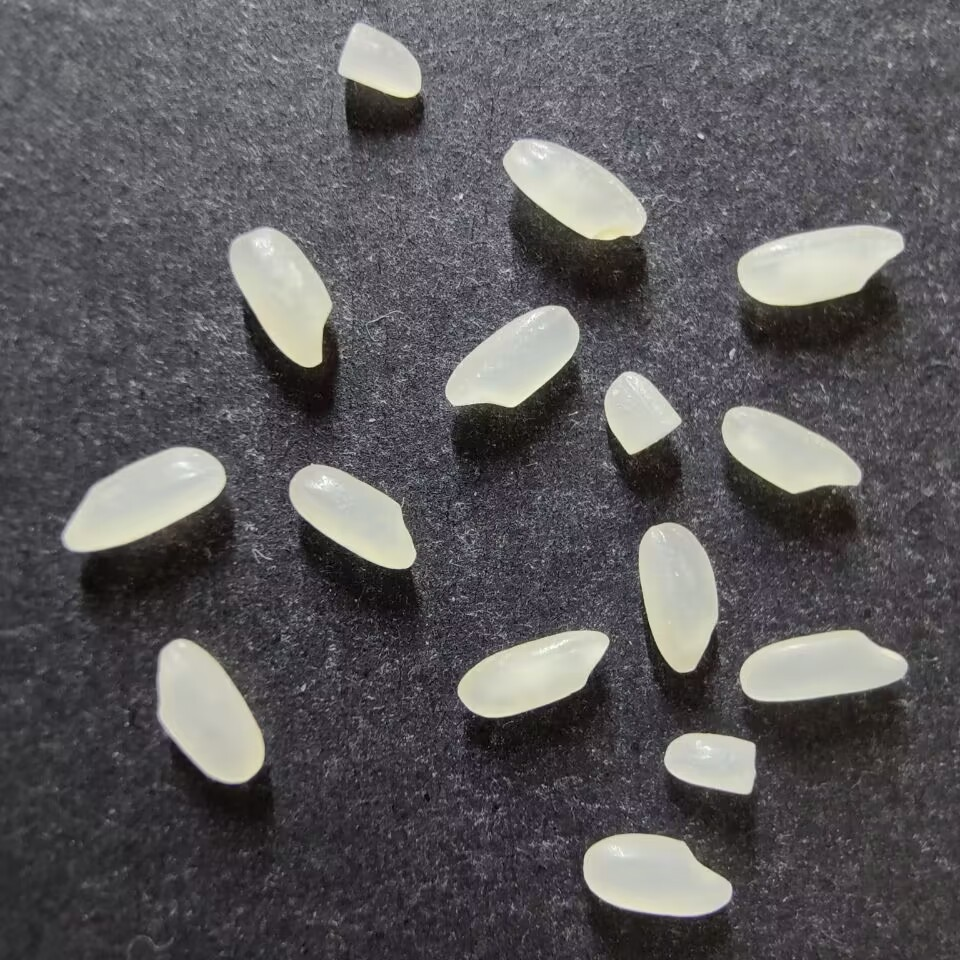broken: (603, 370, 682, 455), (336, 22, 422, 99)
rice: (60, 446, 225, 552), (155, 638, 265, 784), (501, 137, 647, 241), (228, 227, 333, 367), (444, 304, 580, 409), (736, 225, 906, 307), (287, 463, 417, 569), (456, 628, 609, 718), (582, 832, 733, 917), (720, 405, 862, 495), (738, 629, 908, 703), (637, 521, 718, 673)
